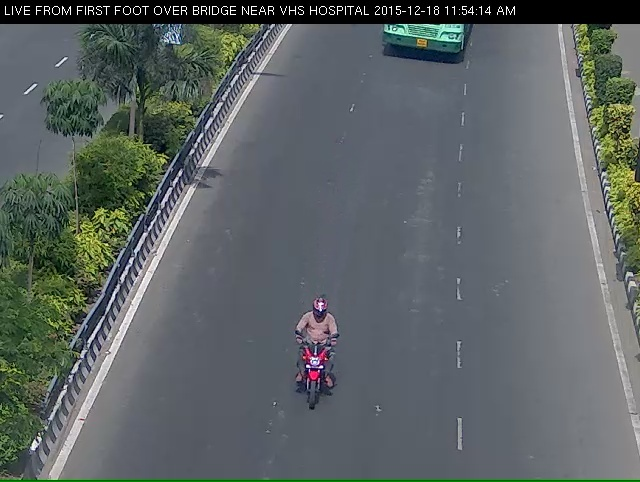Bus: (366, 21, 490, 70)
Person: (283, 324, 339, 442)
